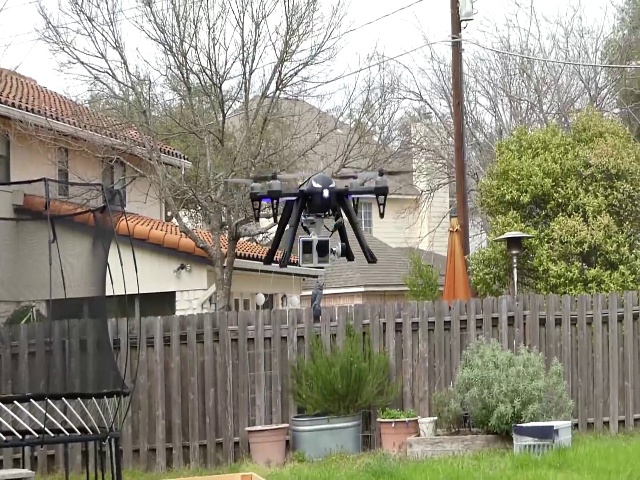drone: (215, 166, 421, 271), (170, 260, 194, 281)
